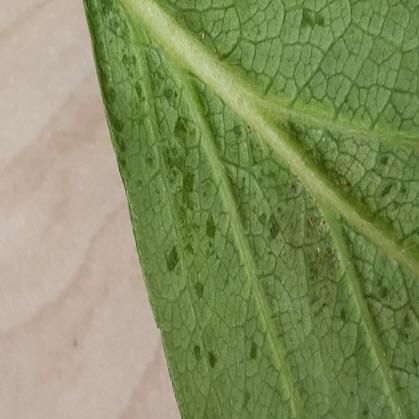Angular Leafspot: (82, 0, 418, 418)
